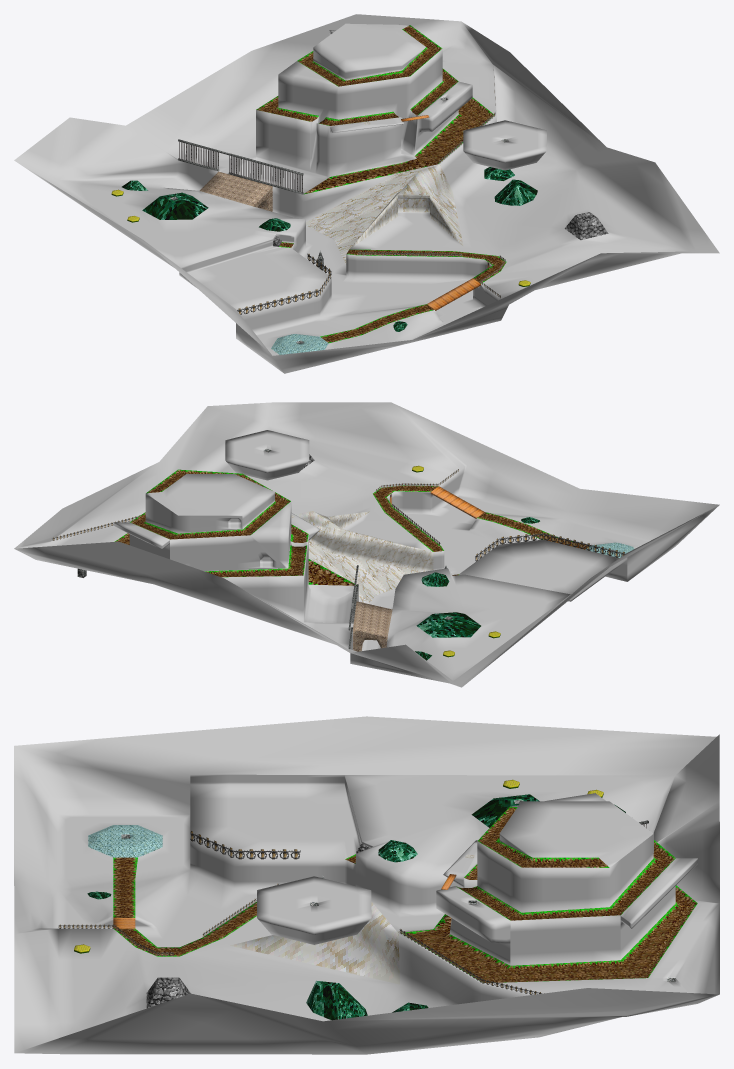
Rendered from battlefieldfix.dae.
3 views of the same model, one above another, from view 1: azimuth 30°, elevation 25°; view 2: azimuth 150°, elevation 25°; view 3: azimuth 270°, elevation 25° (orthographic). The views are drawn at different scales.
Visible parts, largest first — view 1: bobomb_battlefeild; view 2: bobomb_battlefeild; view 3: bobomb_battlefeild.
Part boxes in pixels (box(x1,y1,x2,y2)): bobomb_battlefeild: box(14, 14, 719, 373); bobomb_battlefeild: box(14, 402, 719, 687); bobomb_battlefeild: box(14, 716, 719, 1054).
Size of the model in its own units: 728 by 729 by 207.
